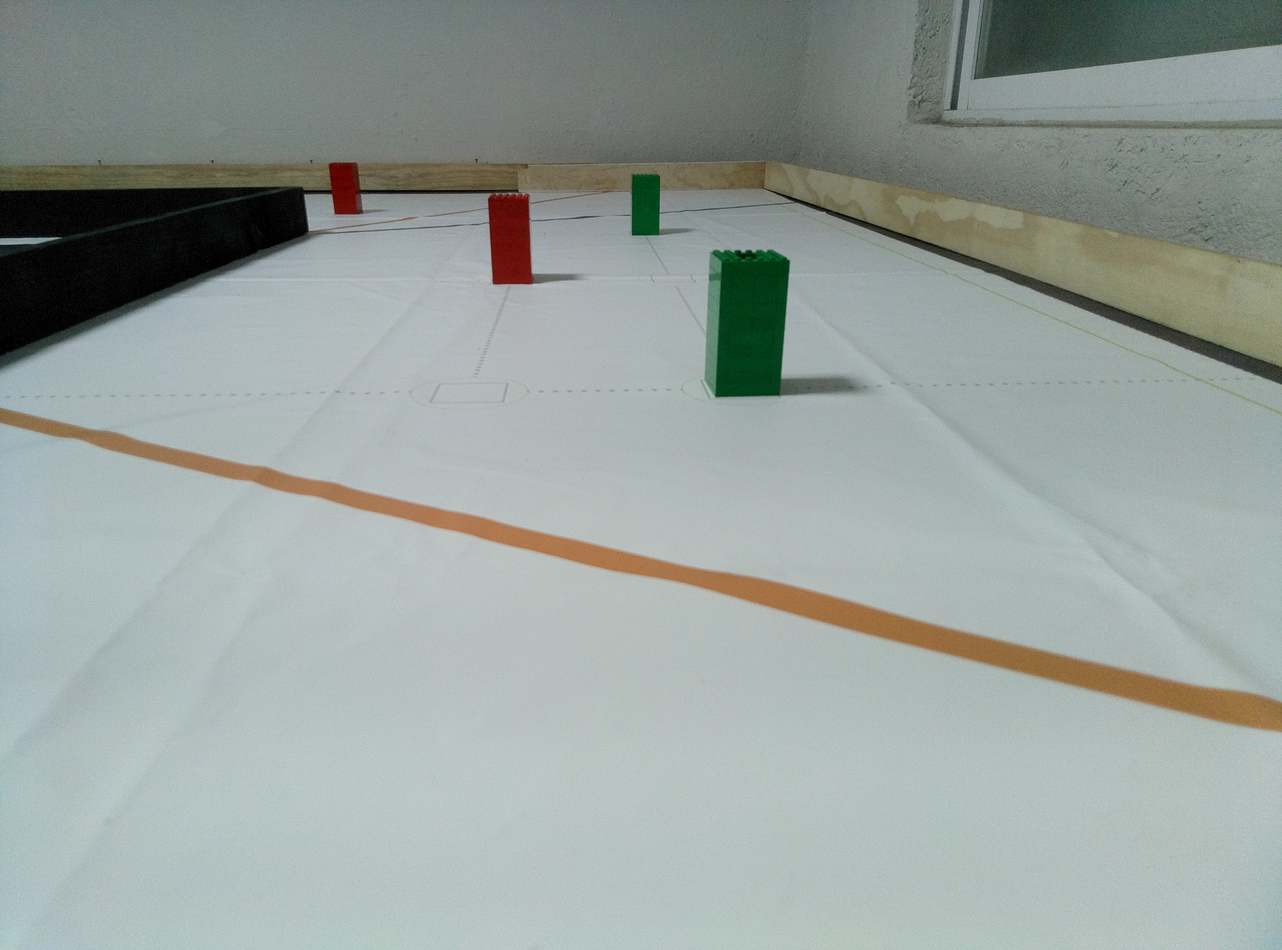greenbox: (700, 247, 796, 400), (629, 172, 663, 237)
redbox: (485, 192, 535, 287), (328, 161, 364, 215)
